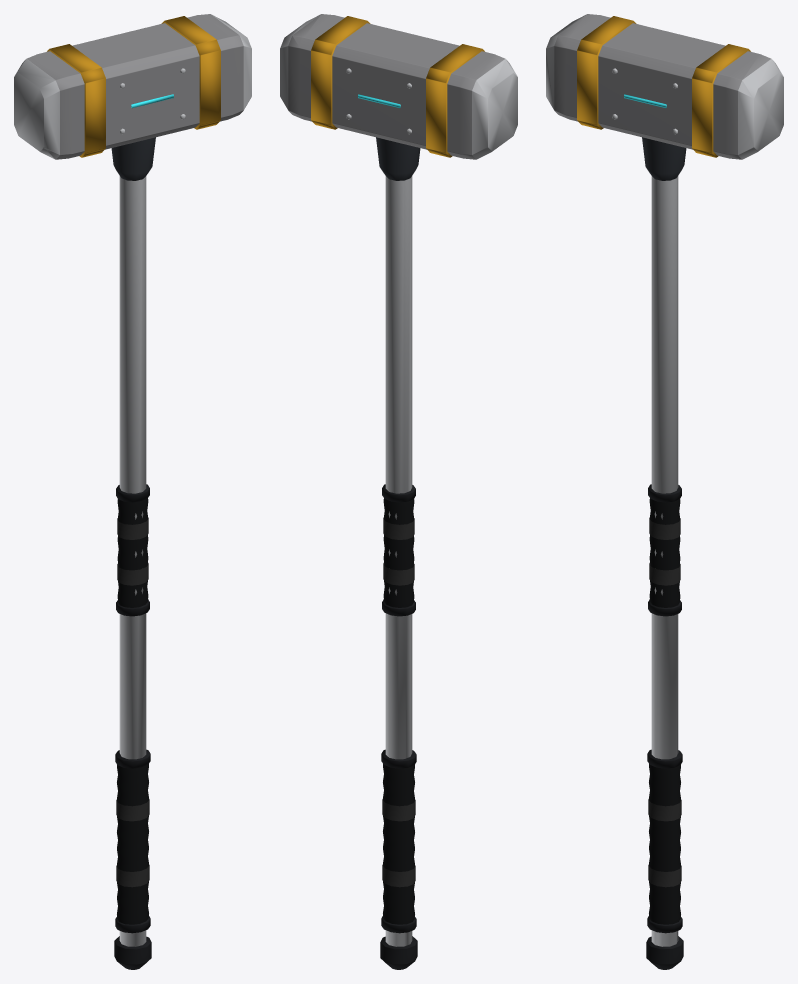
The model's file is gear_neon_sledge.glb.
3 renders of one model, left to right at view 1: azimuth 30°, elevation 25°; view 2: azimuth 150°, elevation 25°; view 3: azimuth 330°, elevation 25°, orthographic.
Visible parts, largest first — view 1: gear_neon_sledge; view 2: gear_neon_sledge; view 3: gear_neon_sledge.
Part boxes in pixels (x1,y1,x2,y2): gear_neon_sledge: (14,14,251,969); gear_neon_sledge: (280,14,517,969); gear_neon_sledge: (546,14,783,969).
Bounding box in the file's own units: 0.344 × 1.46 × 0.1184.
